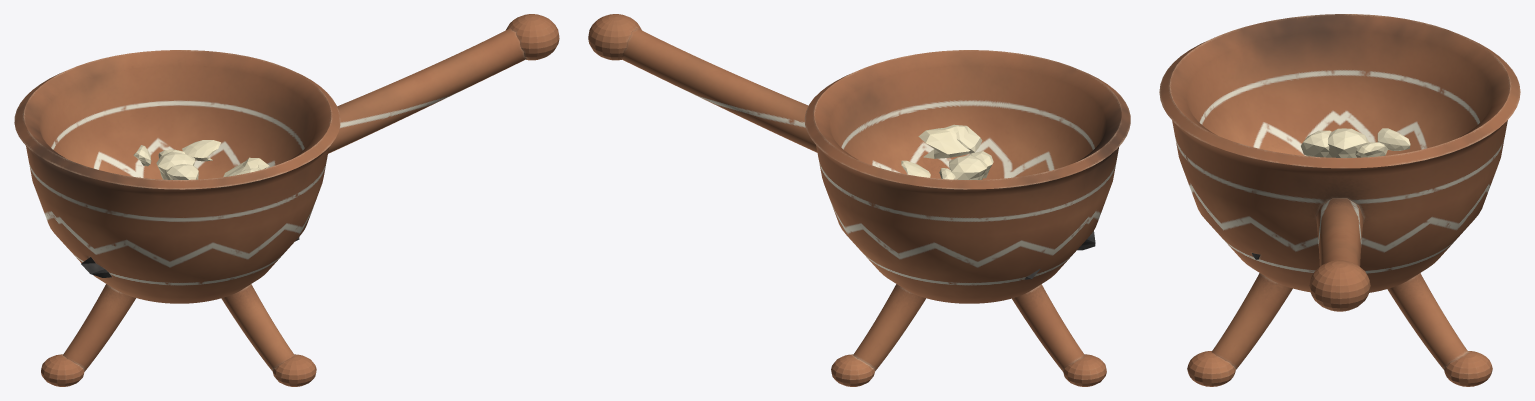
Rendered from w6_copal_burner_tripod.glb.
3 views of the same model, side by side, from view 1: azimuth 30°, elevation 25°; view 2: azimuth 150°, elevation 25°; view 3: azimuth 270°, elevation 25° (orthographic). The views are drawn at different scales.
Visible parts, largest first — view 1: w6_copal_burner_tripod; view 2: w6_copal_burner_tripod; view 3: w6_copal_burner_tripod.
Boxes of the visible parts, x1,y1,x2,y2 form: w6_copal_burner_tripod: (14,14,559,386); w6_copal_burner_tripod: (588,14,1130,386); w6_copal_burner_tripod: (1159,14,1520,386).
Bounding box in the file's own units: 0.389 × 0.181 × 0.212.
Materials: 1 (1 with a texture image).
